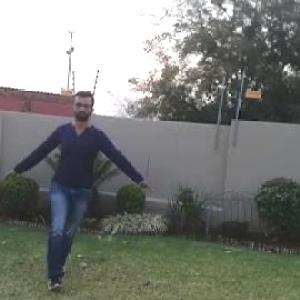land: (13, 97, 138, 268)
